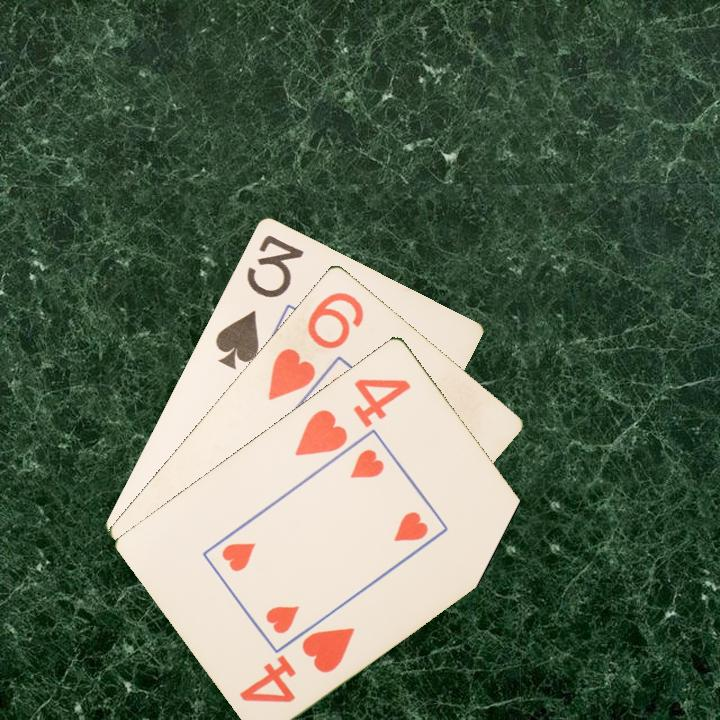3s: (211, 230, 307, 372)
4h: (291, 374, 414, 459), (235, 623, 358, 706)
6h: (264, 287, 367, 404)
